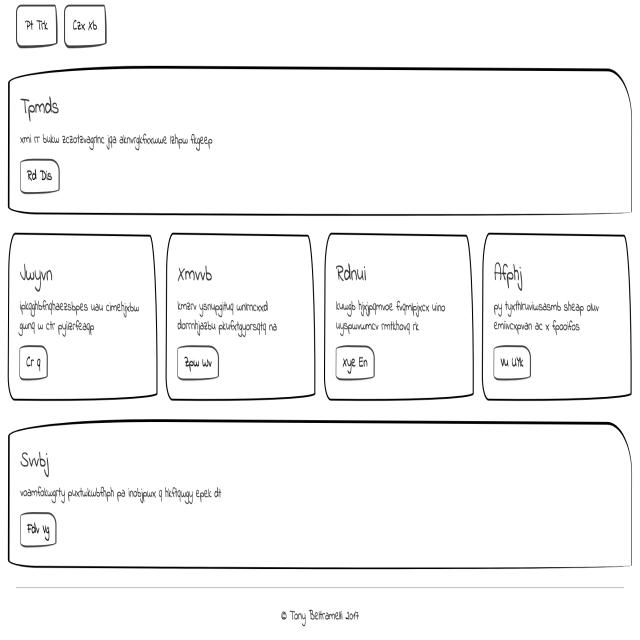Button: (335, 342, 375, 387), (17, 514, 58, 548), (20, 166, 63, 196), (20, 161, 61, 192), (180, 347, 218, 377), (494, 350, 530, 380), (17, 346, 49, 379)
Card: (9, 427, 627, 579), (10, 72, 633, 220), (20, 87, 632, 215), (166, 232, 314, 401), (480, 243, 632, 403), (326, 232, 474, 393), (10, 242, 155, 399), (13, 87, 14, 96)
Footer: (10, 580, 639, 640), (17, 13, 56, 41)
Heading 6: (170, 251, 221, 293), (12, 439, 64, 480), (491, 246, 533, 296), (336, 254, 372, 294), (22, 92, 69, 122), (20, 254, 60, 288)
Navigation Bar: (22, 2, 111, 52)
Paragraph: (13, 482, 246, 506), (14, 130, 231, 155), (18, 300, 141, 342), (332, 297, 451, 336), (172, 304, 283, 342), (491, 302, 600, 336)
